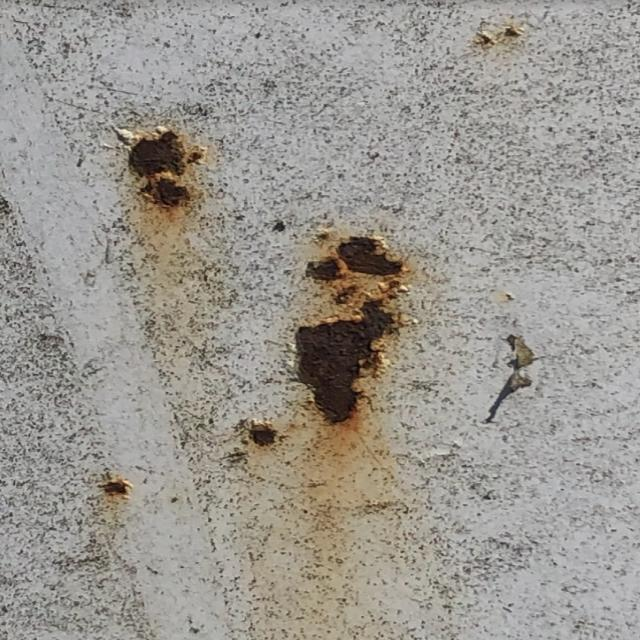Corrosion: (290, 229, 415, 428), (111, 125, 201, 208), (476, 20, 519, 50), (249, 418, 282, 454), (98, 475, 136, 500)
